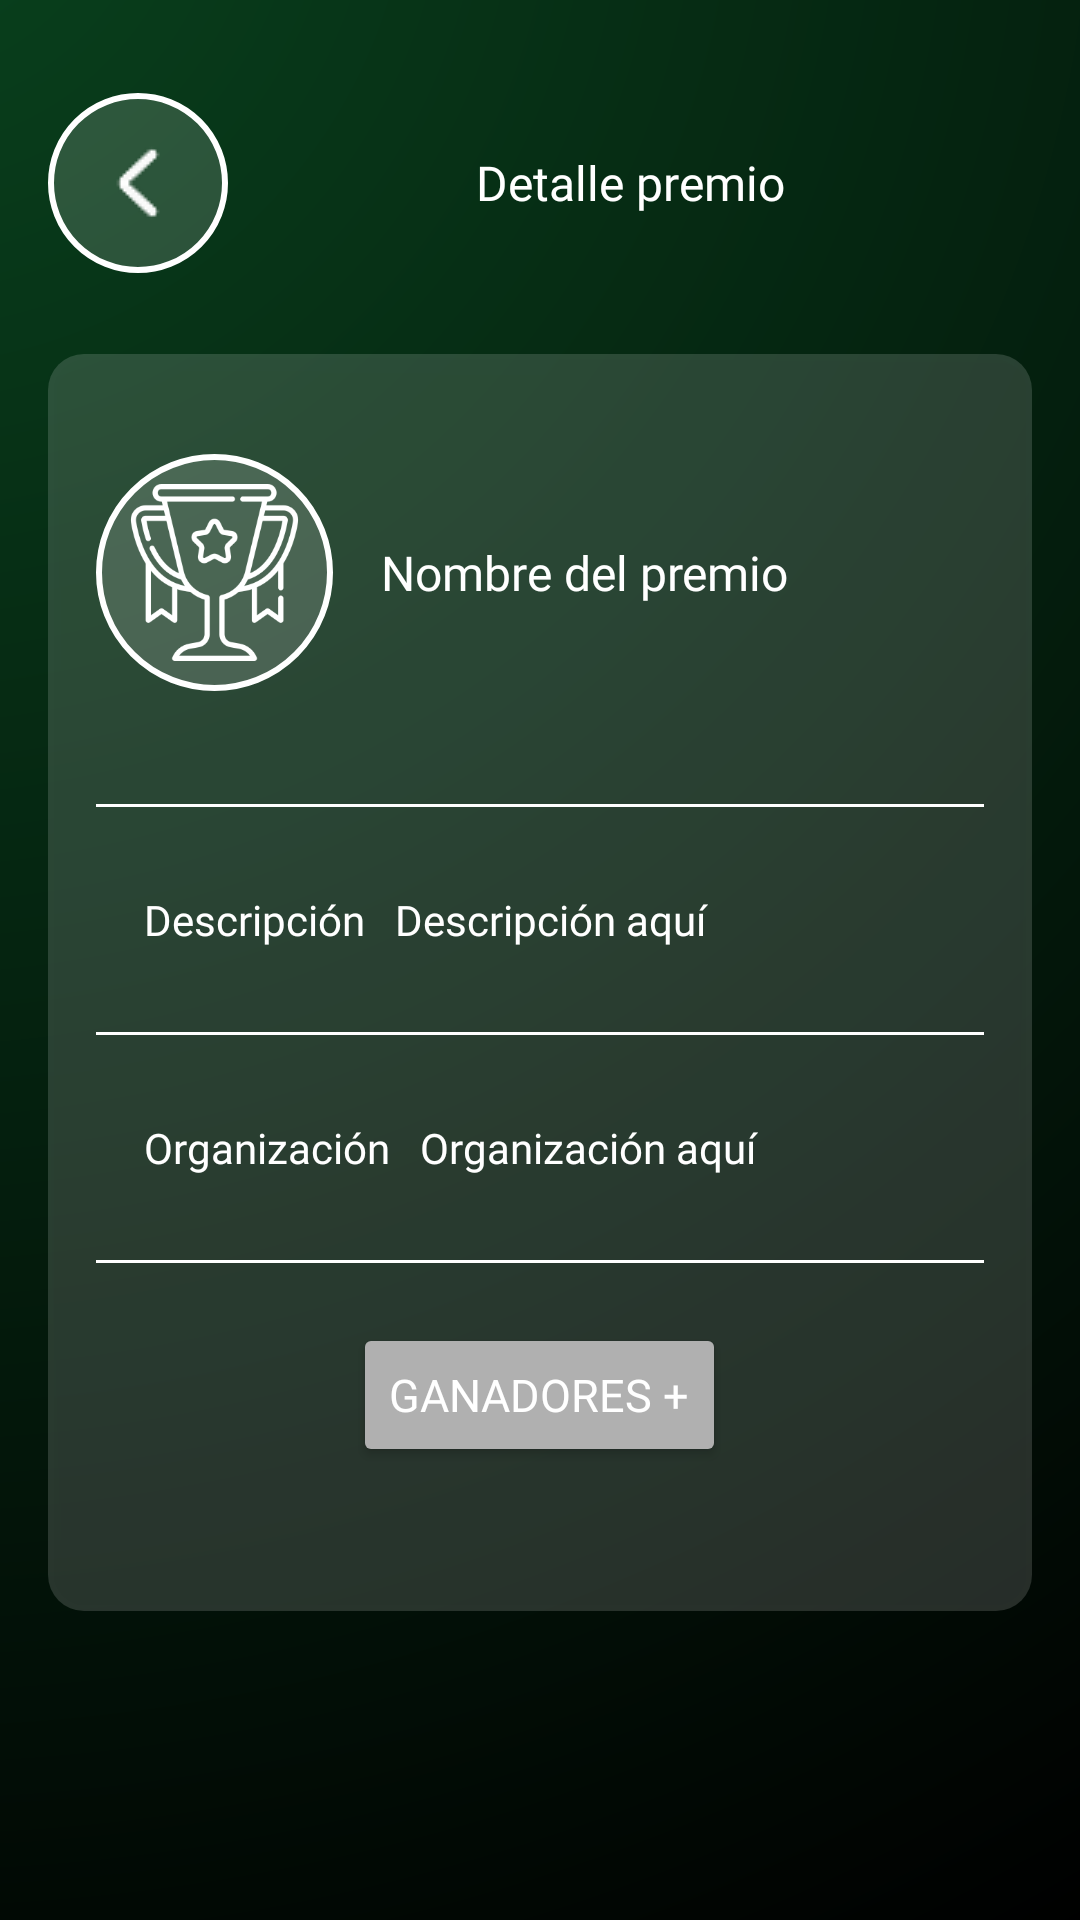

Point at icon controls on the screen. Image size 1080 × 1920, points as [x,y].
Icono de premio: [214,572]
Volver a la lista de premios: [138,183]
